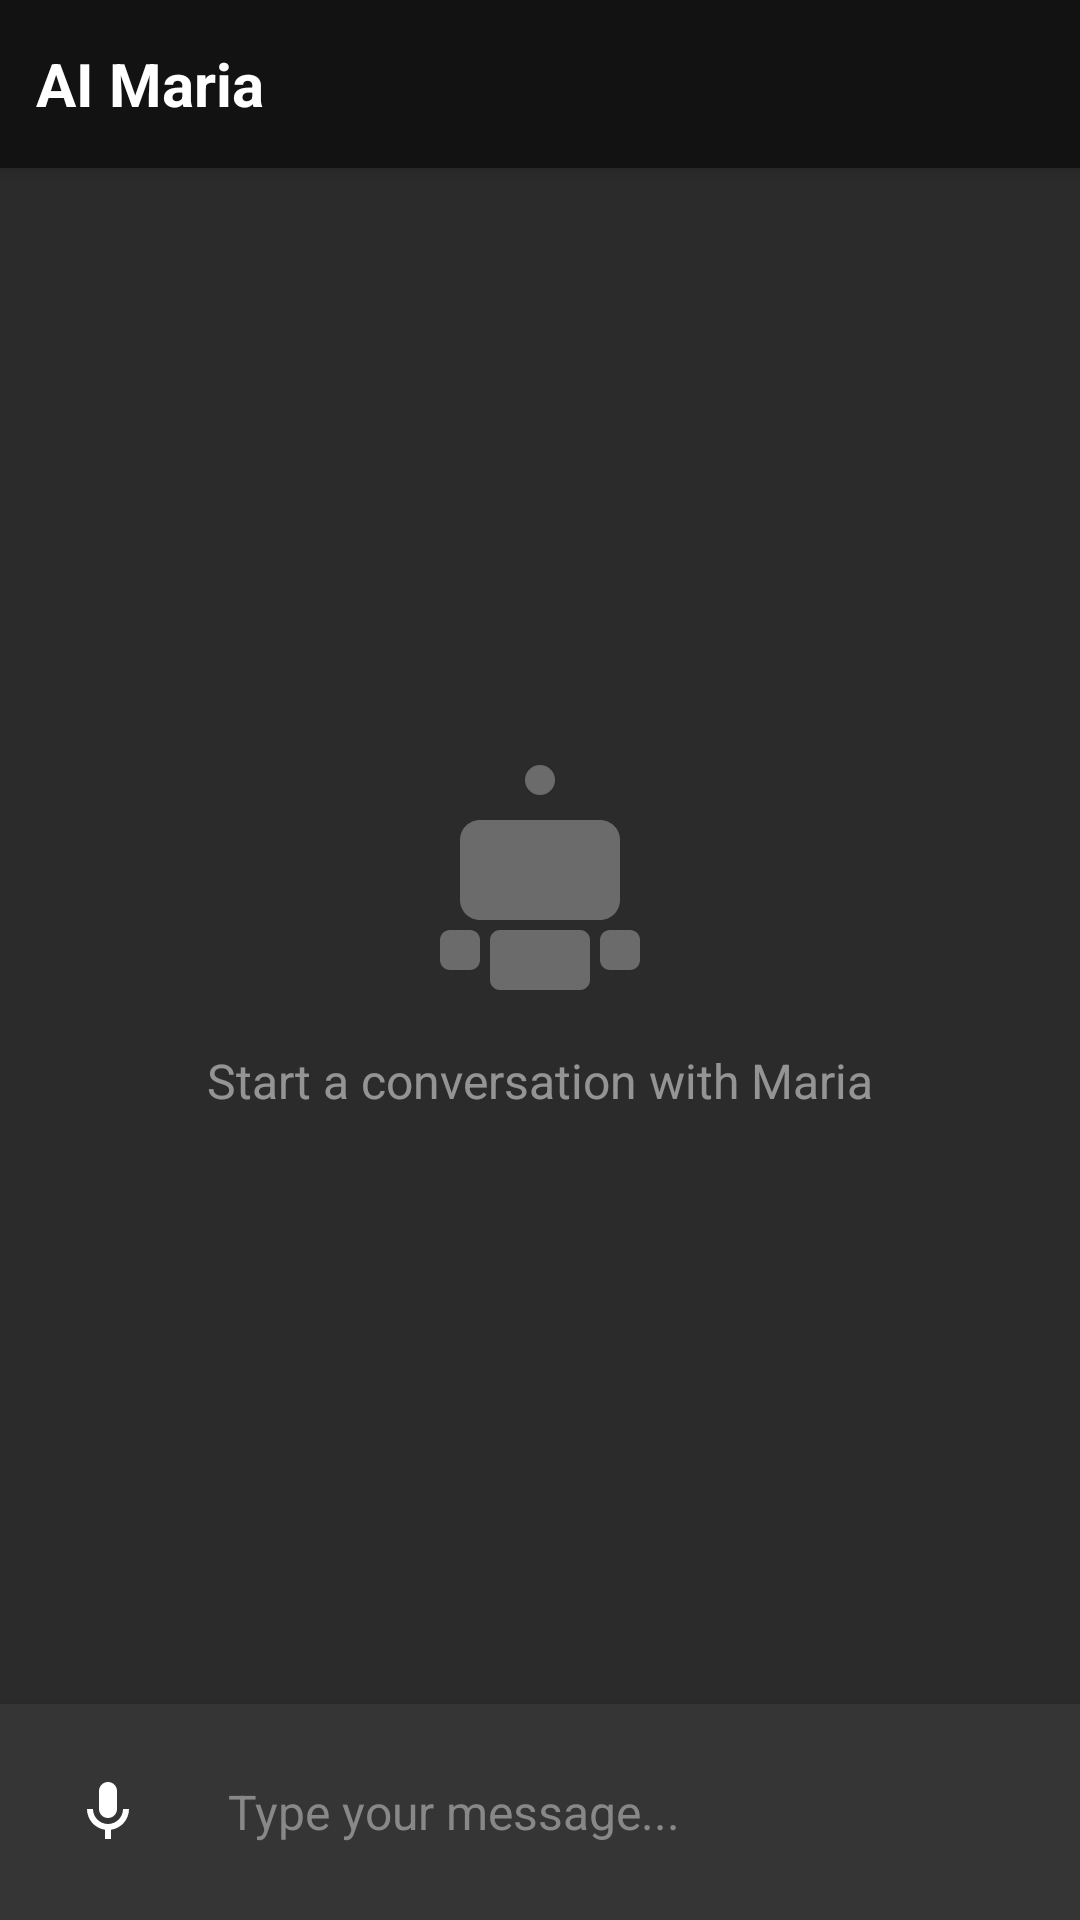

Named icons in this screenshot (1080px x 1920px) and their bounding boxes, (x1, y1, x2, y2):
Voice input: (87, 1782, 129, 1839)
